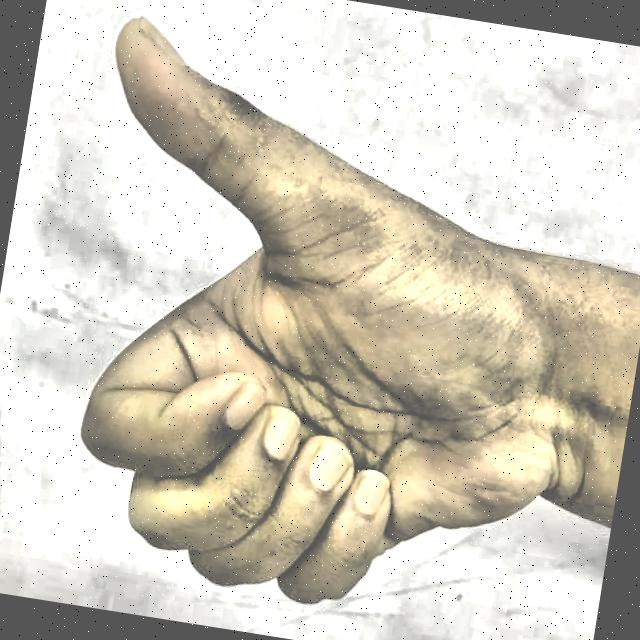Do: (7, 0, 623, 640)
